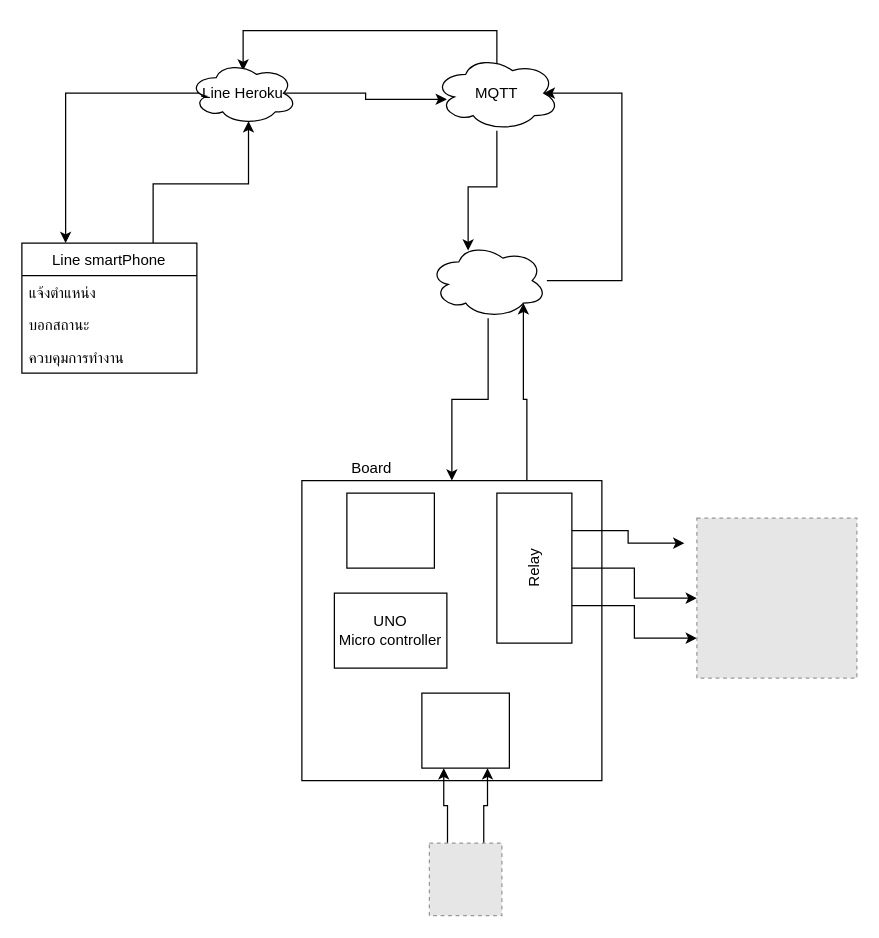
Some shapes in this 879 by 938 pixel diagram are drawn without their labels. Grey dashed boxes stand in for pictures. The centre of each missing label's shape, as x and y in pixels:
"Internet" belongs at (x=487, y=280).
"NB IOT" belongs at (x=390, y=530).
"วงจรแปลงไฟ 3V - 5V" belongs at (x=465, y=730).
